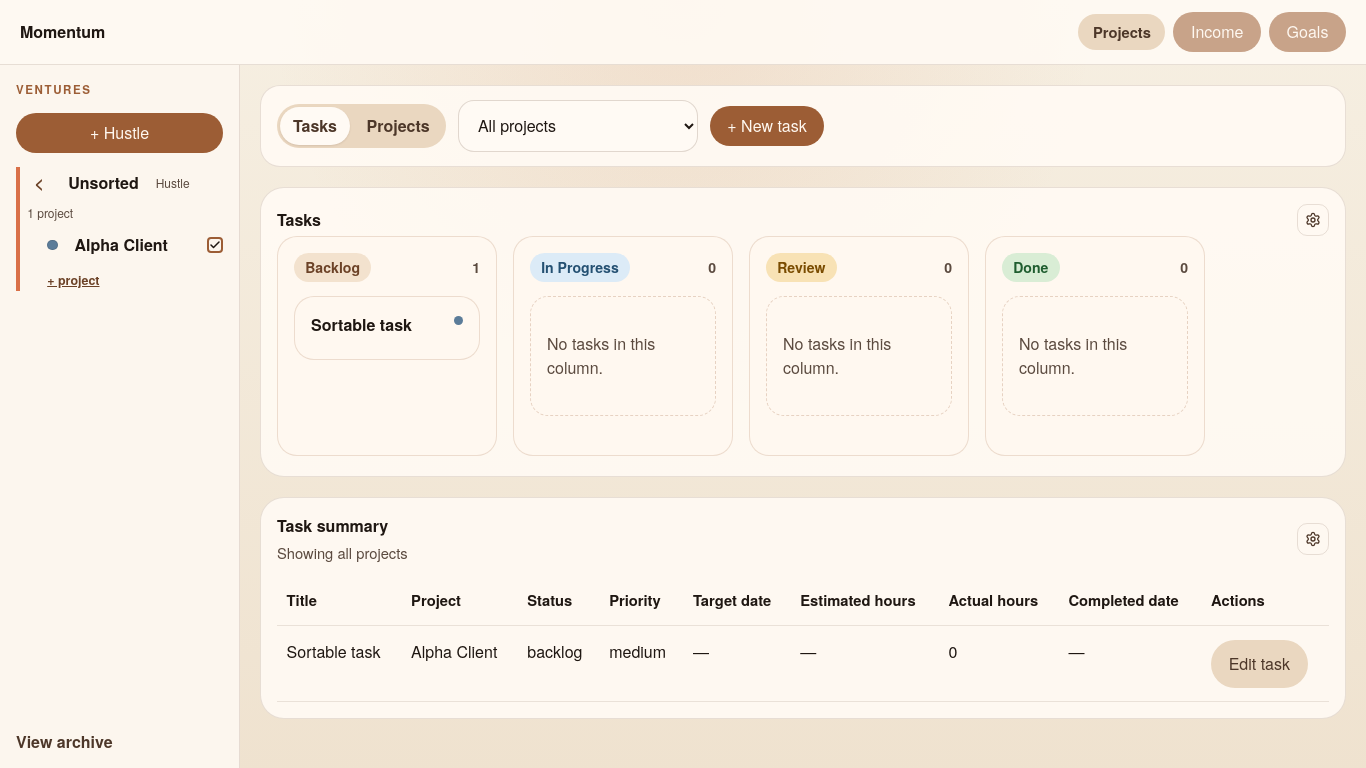
Test: Ticket 1b-4 Projects page polish › task summary table sort gear › exposes a Sort by dropdown from a gear control on the section title bar
Click the button with test id "table-sort-gear" at [1313, 539], box [1297,523,1329,555]
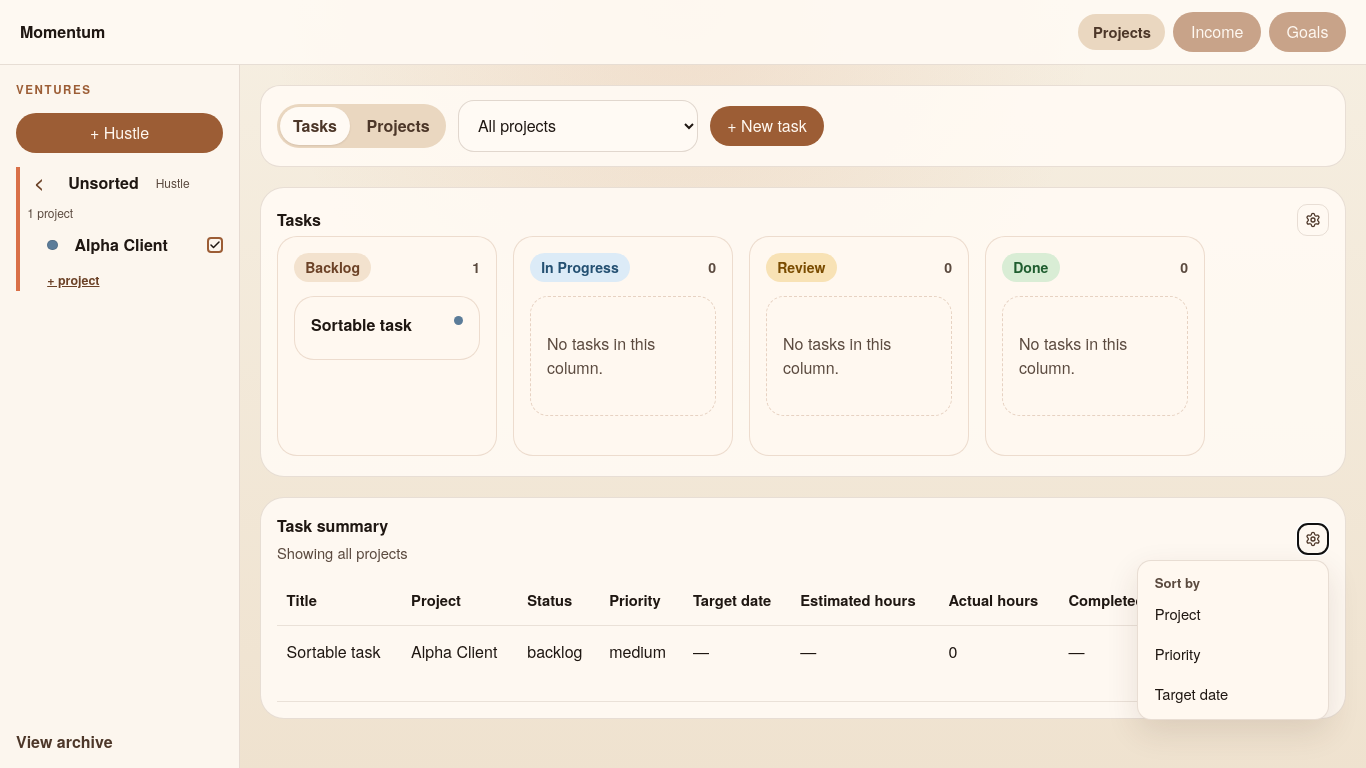
Now the text "Sort by" is shown, box [1155,573,1200,592]
Now the menu item "Project" is shown, box [1144,595,1322,634]
Now the menu item "Target date" is shown, box [1144,674,1322,714]
